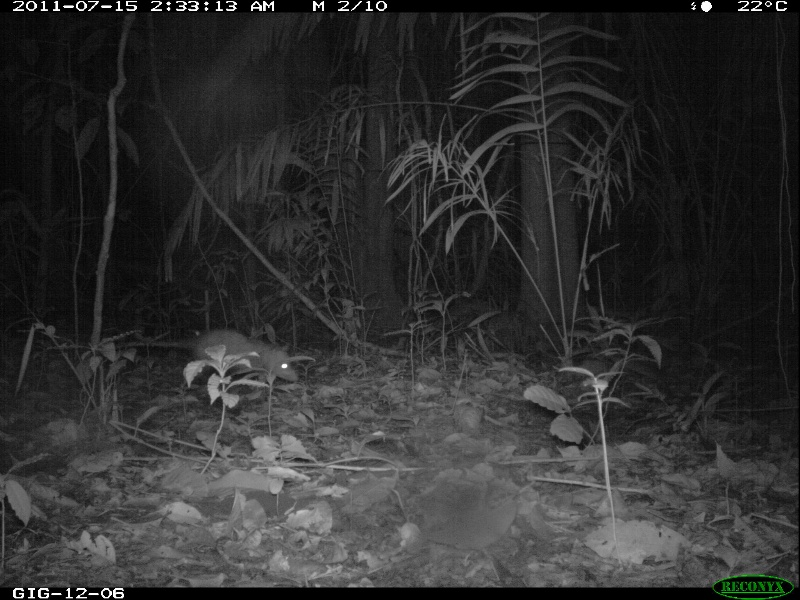opossum: (95, 329, 303, 386)
